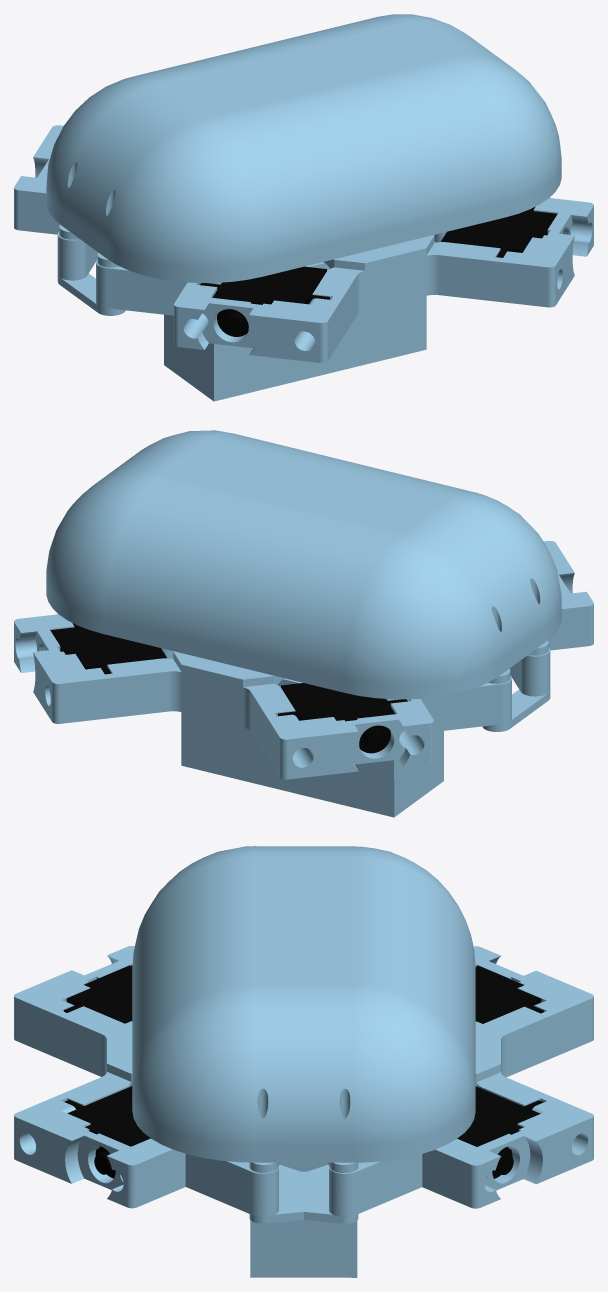
The model's file is x_drone_body.dae.
3 views of the same model, one above another, from view 1: azimuth 30°, elevation 25°; view 2: azimuth 150°, elevation 25°; view 3: azimuth 270°, elevation 25° (orthographic). The views are drawn at different scales.
Parts seen in each view (by area): view 1: Part 1 (×5), Part 2, Part 4; view 2: Part 1 (×4), Part 2 (×2), Part 3; view 3: Part 1 (×6), Part 2 (×2), Part 3, Part 4.
Boxes of the visible parts, box(x1,y1,x2,y2) form: Part 1 (×5): box(46, 14, 593, 401); Part 2: box(14, 125, 98, 280); Part 4: box(200, 266, 329, 336); Part 1 (×4): box(46, 430, 593, 817); Part 2 (×2): box(14, 613, 511, 779); Part 3: box(278, 683, 407, 753); Part 1 (×6): box(14, 846, 475, 1277); Part 2 (×2): box(329, 946, 593, 1216); Part 3: box(475, 965, 543, 1023); Part 4: box(64, 965, 132, 1023).
Size of the model in its own units: 0.1566 by 0.1625 by 0.0944.
